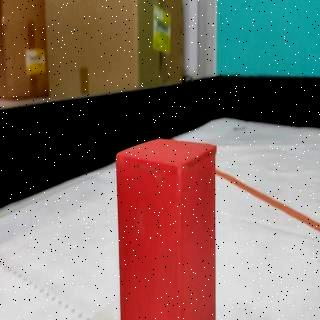redbox: (114, 139, 216, 320)
